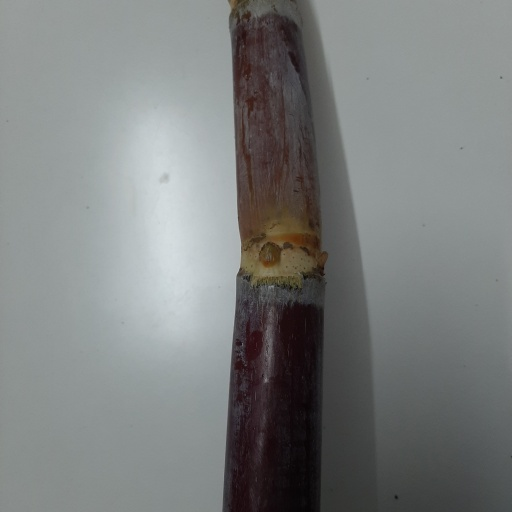Bud: (257, 242, 281, 265)
